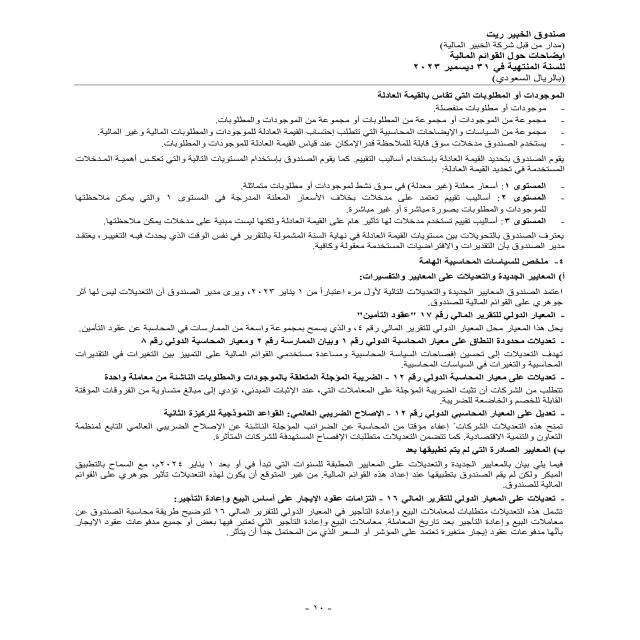notes: (445, 49, 572, 63)
text: (41, 84, 572, 550)
